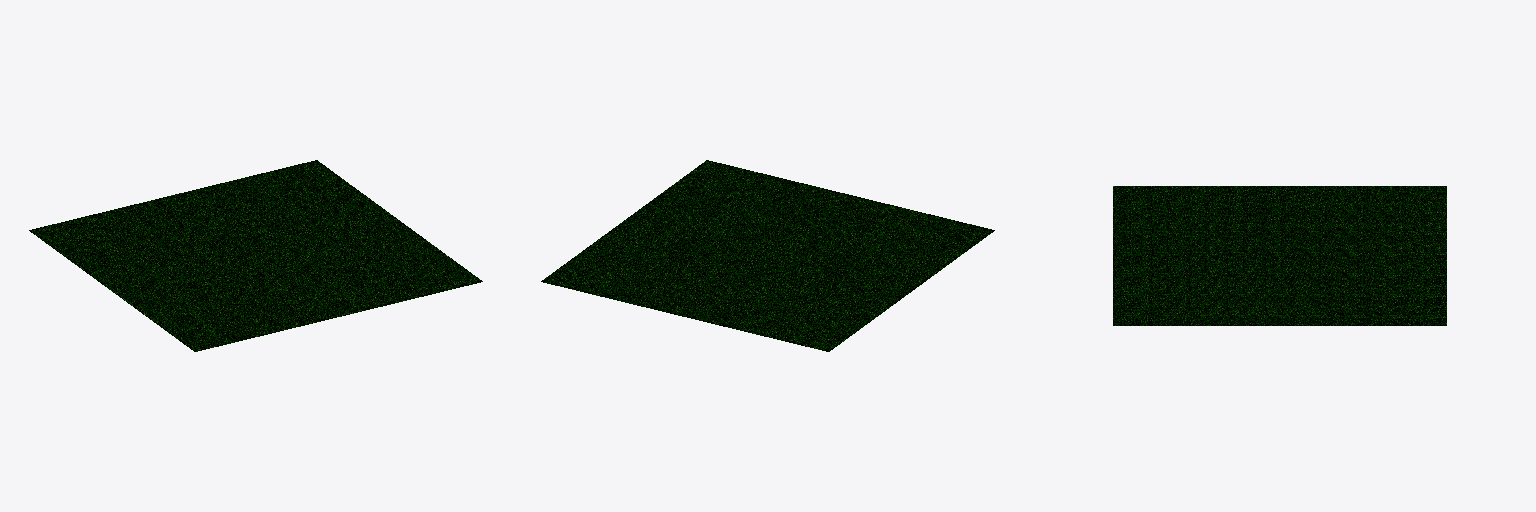
The picture shows the model from 3 angles: view 1: azimuth 30°, elevation 25°; view 2: azimuth 150°, elevation 25°; view 3: azimuth 270°, elevation 25°; orthographic projection.
Parts seen in each view (by area): view 1: Plane; view 2: Plane; view 3: Plane.
Part boxes in pixels (bbox=[...]): Plane: bbox=[29, 160, 482, 351]; Plane: bbox=[541, 160, 994, 351]; Plane: bbox=[1113, 186, 1446, 325].
Bounding box in the file's own units: 10275 × 6.9 × 10275.
Materials: 27 (24 with a texture image).